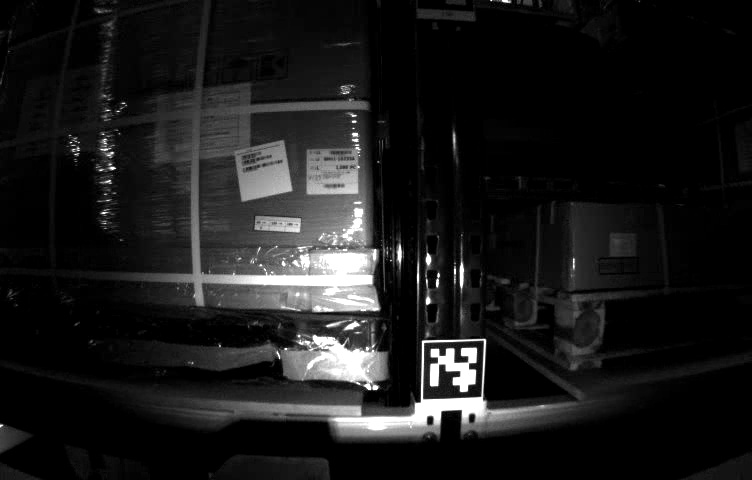True Barcode: (304, 146, 361, 197)
